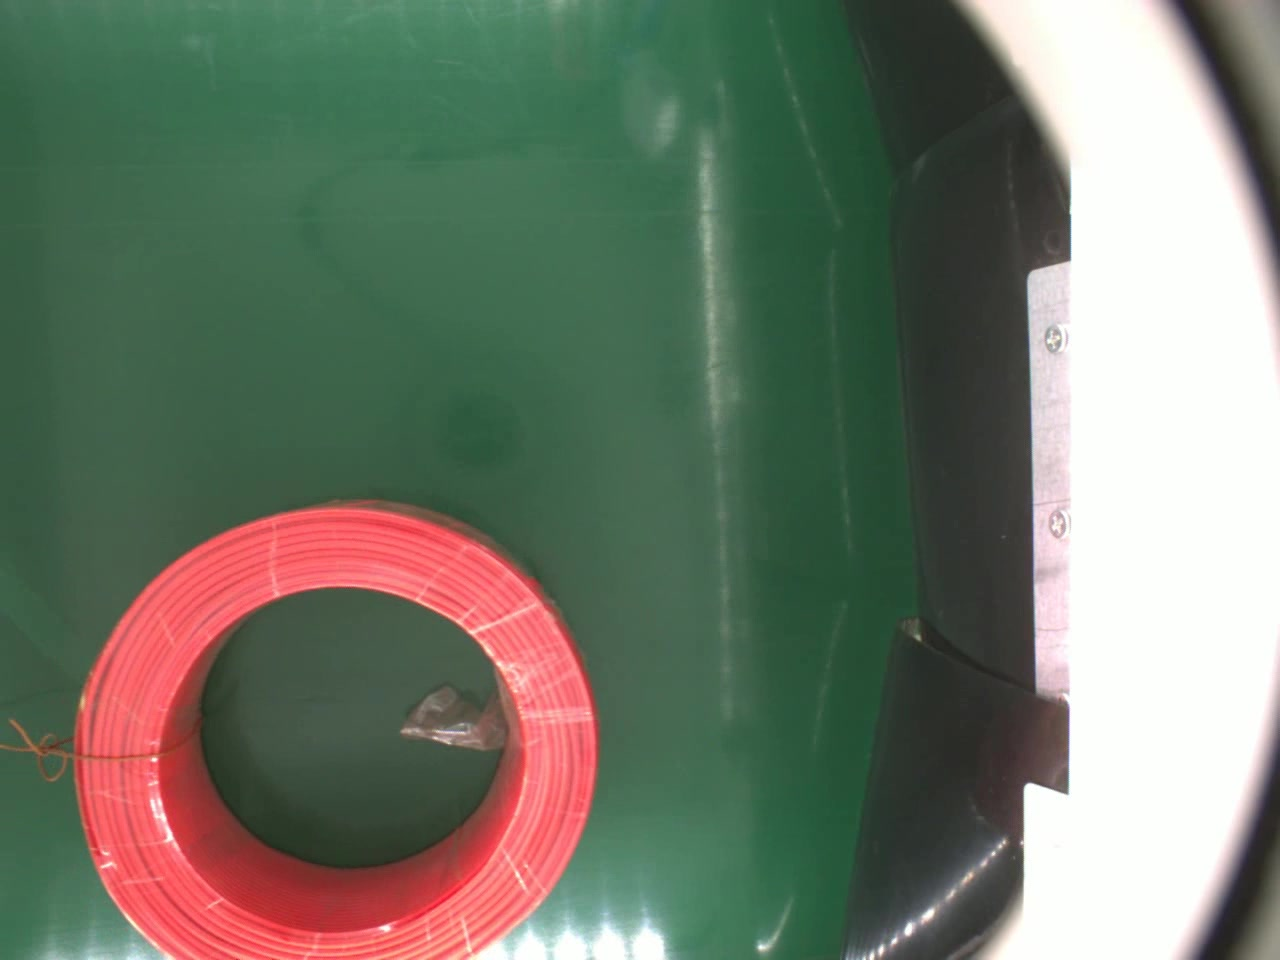red: (71, 499, 596, 960)
